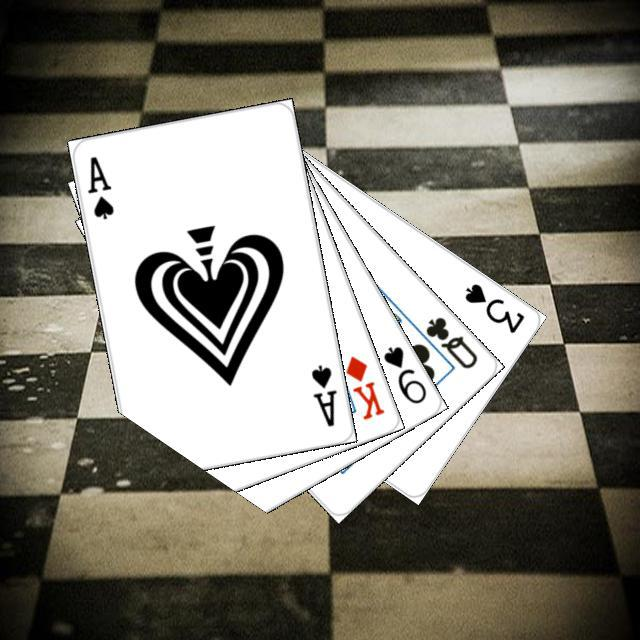3s: (459, 278, 526, 335)
9s: (378, 341, 429, 406)
As: (83, 151, 116, 222), (306, 360, 339, 429)
Kd: (340, 351, 386, 422)
Qc: (408, 311, 480, 374)
